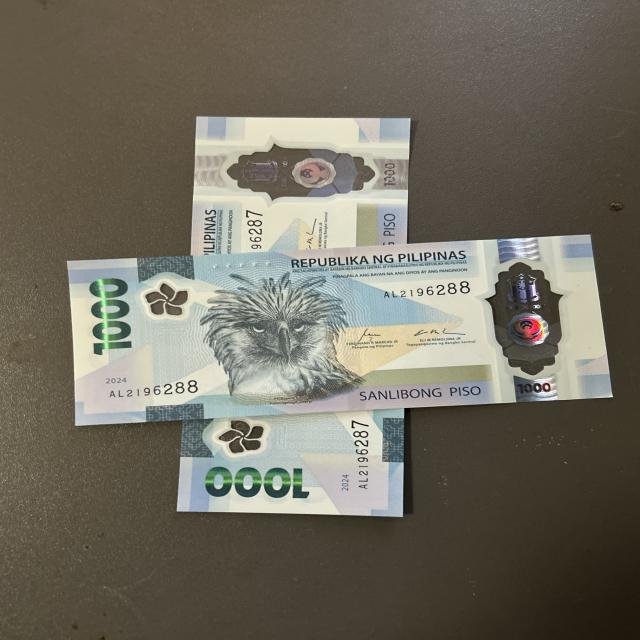clear_window: (483, 256, 580, 388), (201, 144, 394, 196)
eagle: (204, 283, 366, 395)
sampaguita: (144, 278, 196, 325), (207, 420, 269, 458)
serial_number: (361, 282, 478, 300), (352, 420, 379, 494), (102, 383, 212, 398), (233, 209, 272, 250)
value: (87, 271, 140, 355), (196, 467, 320, 502)
